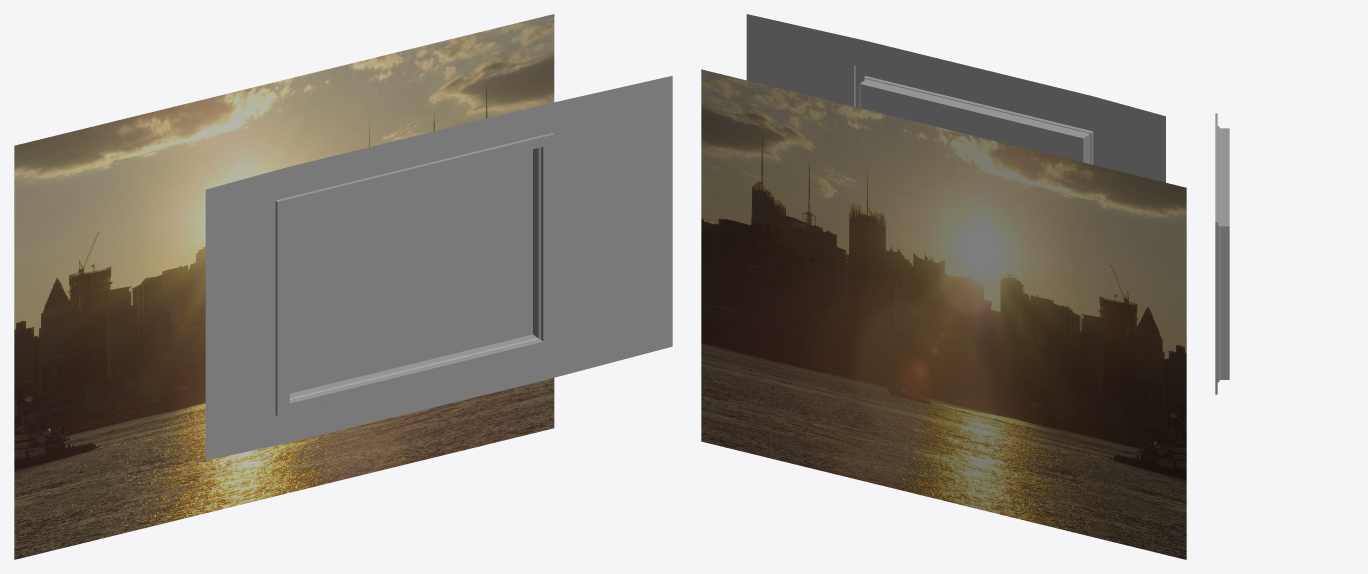
The model's file is starter_file.obj.
3 views of the same model, side by side, from view 1: azimuth 30°, elevation 25°; view 2: azimuth 150°, elevation 25°; view 3: azimuth 270°, elevation 25° (orthographic). The views are drawn at different scales.
Parts seen in each view (by area): view 1: BkgndPlane_Plane.002, WallWithWindow_Plane.001, Glass_Plane; view 2: BkgndPlane_Plane.002, WallWithWindow_Plane.001, Glass_Plane; view 3: WallWithWindow_Plane.001.
Boxes of the visible parts, x1,y1,x2,y2 form: BkgndPlane_Plane.002: [14, 14, 554, 559]; WallWithWindow_Plane.001: [205, 76, 672, 460]; Glass_Plane: [289, 149, 532, 393]; BkgndPlane_Plane.002: [701, 69, 1186, 559]; WallWithWindow_Plane.001: [746, 14, 1165, 182]; Glass_Plane: [860, 84, 1083, 162]; WallWithWindow_Plane.001: [1215, 113, 1229, 394].
Bounding box in the file's own units: 18.86 × 13.01 × 4.88.
